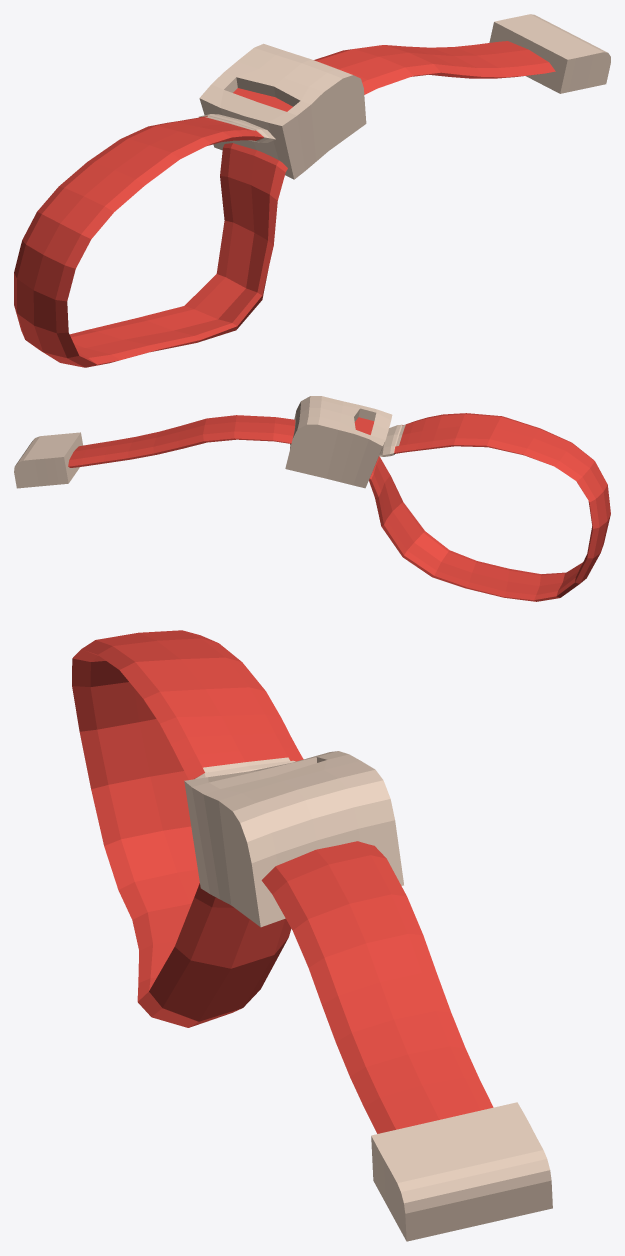
Rendered from garrote_arm.fbx.
The picture shows the model from 3 angles, top to bottom: view 1: azimuth 30°, elevation 25°; view 2: azimuth 150°, elevation 25°; view 3: azimuth 270°, elevation 25°; orthographic projection. The views are drawn at different scales.
Parts seen in each view (by area): view 1: Plane.003; view 2: Plane.003; view 3: Plane.003.
Part boxes in pixels (x1=…): Plane.003: x1=14, y1=14, x2=610, y2=367; Plane.003: x1=14, y1=396, x2=610, y2=601; Plane.003: x1=72, y1=630, x2=552, y2=1241.
Size of the model in its own units: 1102 by 339 by 449.
